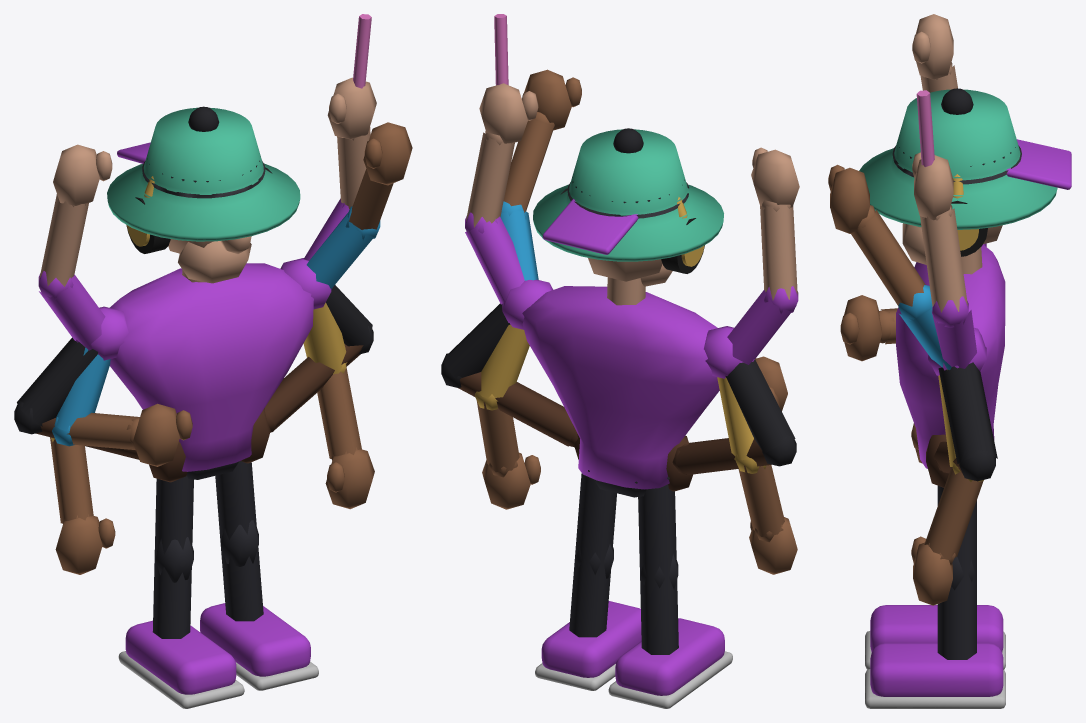
Rendered from club_crowd.glb.
The picture shows the model from 3 angles, left to right: view 1: azimuth 30°, elevation 25°; view 2: azimuth 150°, elevation 25°; view 3: azimuth 270°, elevation 25°; orthographic projection. The views are drawn at different scales.
Visible parts, largest first — view 1: CROWD_V0_Body, CROWD_V4_Body, CROWD_V1_Body, CROWD_V5_Body, CROWD_V2_Body; view 2: CROWD_V0_Body, CROWD_V4_Body, CROWD_V5_Body, CROWD_V2_Body, CROWD_V1_Body; view 3: CROWD_V0_Body, CROWD_V4_Body, CROWD_V1_Body, CROWD_V5_Body, CROWD_V2_Body.
Boxes of the visible parts, x1=… form: CROWD_V0_Body: x1=38, y1=14, x2=376, y2=708; CROWD_V4_Body: x1=107, y1=107, x2=300, y2=241; CROWD_V1_Body: x1=52, y1=122, x2=412, y2=466; CROWD_V5_Body: x1=50, y1=167, x2=374, y2=574; CROWD_V2_Body: x1=14, y1=106, x2=373, y2=482; CROWD_V0_Body: x1=465, y1=14, x2=799, y2=708; CROWD_V4_Body: x1=533, y1=129, x2=723, y2=261; CROWD_V5_Body: x1=475, y1=188, x2=797, y2=574; CROWD_V2_Body: x1=441, y1=128, x2=796, y2=491; CROWD_V1_Body: x1=500, y1=69, x2=787, y2=411; CROWD_V0_Body: x1=865, y1=14, x2=1071, y2=708; CROWD_V4_Body: x1=859, y1=89, x2=1057, y2=229; CROWD_V1_Body: x1=828, y1=164, x2=951, y2=369; CROWD_V5_Body: x1=911, y1=174, x2=987, y2=605; CROWD_V2_Body: x1=899, y1=88, x2=1015, y2=487.
Size of the model in its own units: 0.642 by 1.07 by 0.3588.
